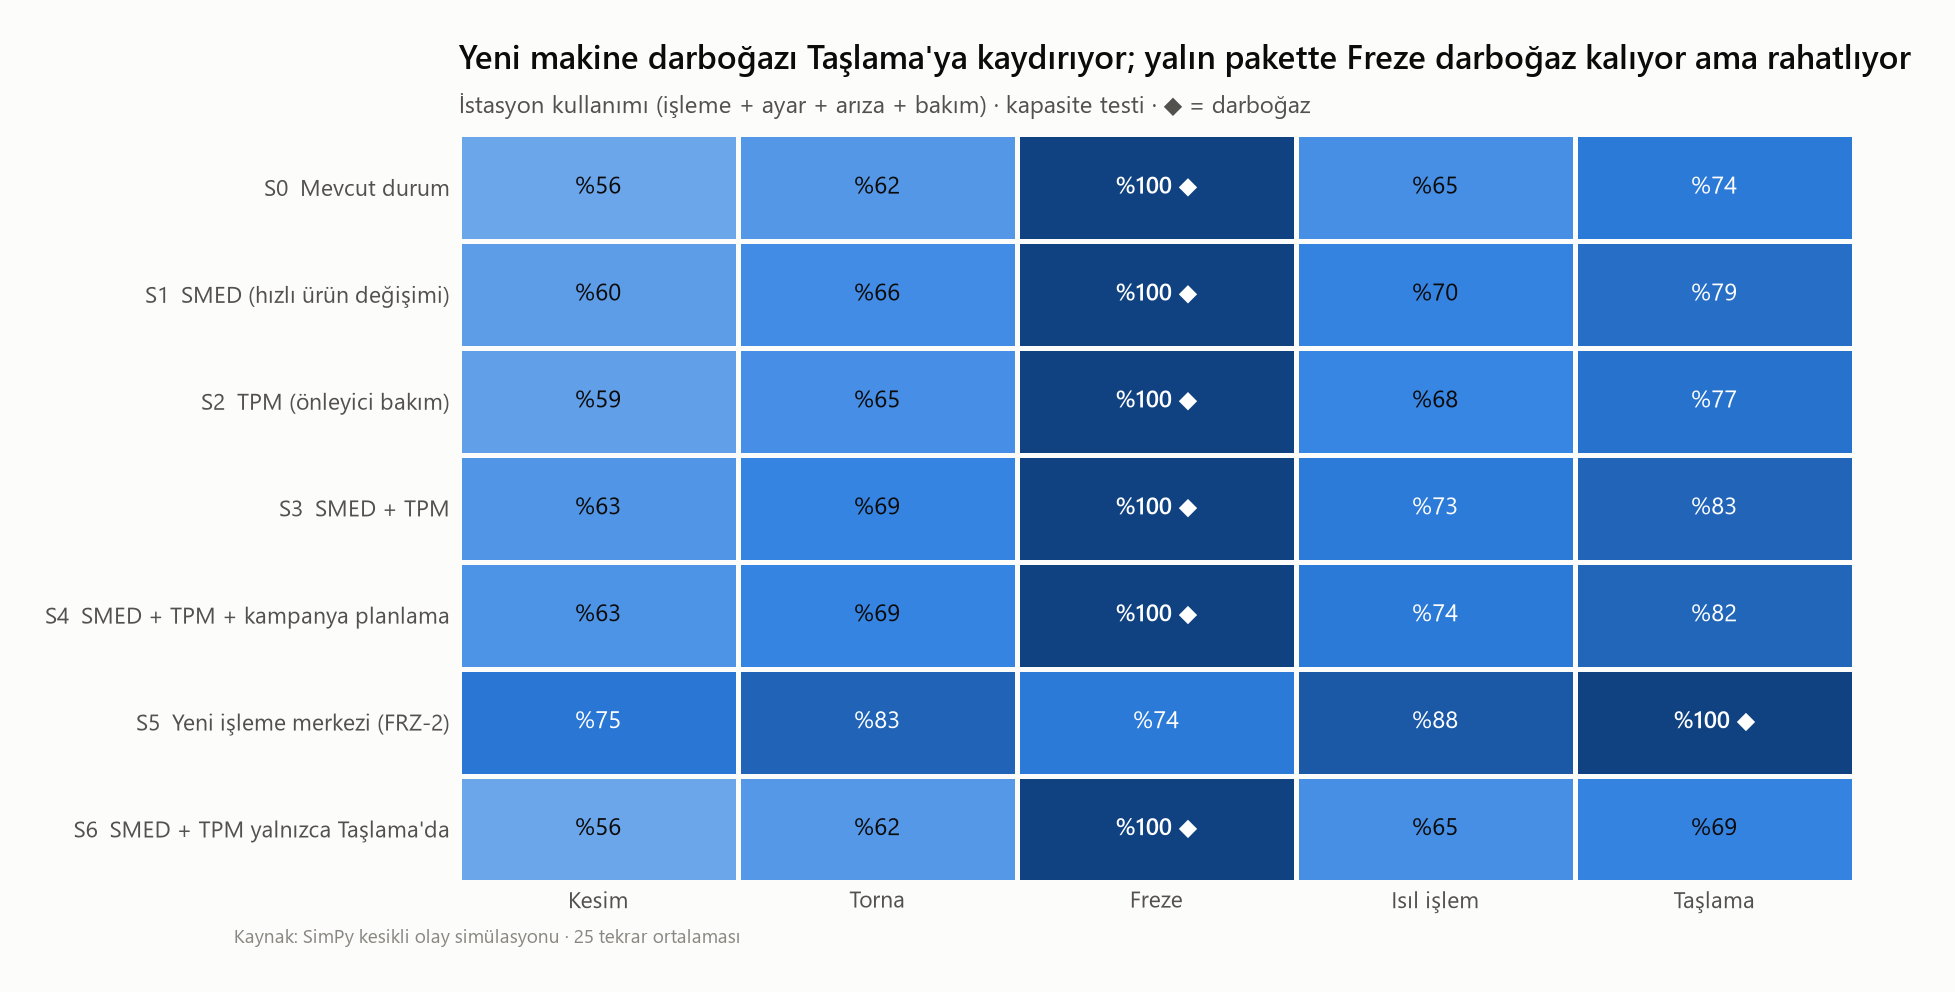

The page's visual inventory and layout, read from the dashboard file:
{"tool":"powerbi","page":{"name":"Tahmin ve Senaryolar","canvas":[1280,720],"ordinal":5},"visuals":[{"type":"textbox","box":[20,8,760,60],"z":0},{"type":"slicer","title":"Hat","fields":{"Values":["DimUrun.Hat"]},"box":[1028,12,220,56],"z":1000},{"type":"lineChart","title":"Talep: gerçekleşen ve 6 aylık tahmin (%80 aralık)","fields":{"Category":["DimTarih.Yıl-Ay"],"Y":["_Ölçüler.Talep (adet)","_Ölçüler.Talep Tahmini (adet)","_Ölçüler.Tahmin Alt %80","_Ölçüler.Tahmin Üst %80"]},"box":[20,80,620,300],"z":2000},{"type":"clusteredBarChart","title":"Simülasyon: azami haftalık çıktı (adet)","fields":{"Category":["SimKapasite.Senaryo Adı"],"Y":["_Ölçüler.Sim Haftalık Çıktı"]},"box":[660,80,600,300],"z":3000},{"type":"columnChart","title":"Optimizasyon: 6 aylık plan maliyeti (TL)","fields":{"Category":["OptMaliyet.Durum"],"Series":["OptMaliyet.Kalem"],"Y":["_Ölçüler.Opt Maliyet (TL)"]},"box":[20,394,620,314],"z":4000},{"type":"tableEx","title":"Monte Carlo: 5 yıllık NPV (milyon TL, N = 10.000)","fields":{"Values":["FinansOzet.Seçenek","FinansOzet.NPV P10 (M TL)","FinansOzet.NPV Medyan (M TL)","FinansOzet.NPV P90 (M TL)","FinansOzet.Pozitif NPV Olasılığı","FinansOzet.En İyi Seçenek Olasılığı"]},"box":[660,394,600,314],"z":5000}]}

Visuals, with their boxes on the page's 1280x720 design canvas (x1, y1, x2, y2). These are canvas units, not pixel positions in the 1955x992 screenshot, which may show the page scaled, cropped or inside an application window:
textbox: <box>20,8,780,68</box>
"Hat" slicer: <box>1028,12,1248,68</box>
"Talep: gerçekleşen ve 6 aylık tahmin (%80 aralık)" lineChart: <box>20,80,640,380</box>
"Simülasyon: azami haftalık çıktı (adet)" clusteredBarChart: <box>660,80,1260,380</box>
"Optimizasyon: 6 aylık plan maliyeti (TL)" columnChart: <box>20,394,640,708</box>
"Monte Carlo: 5 yıllık NPV (milyon TL, N = 10.000)" tableEx: <box>660,394,1260,708</box>
